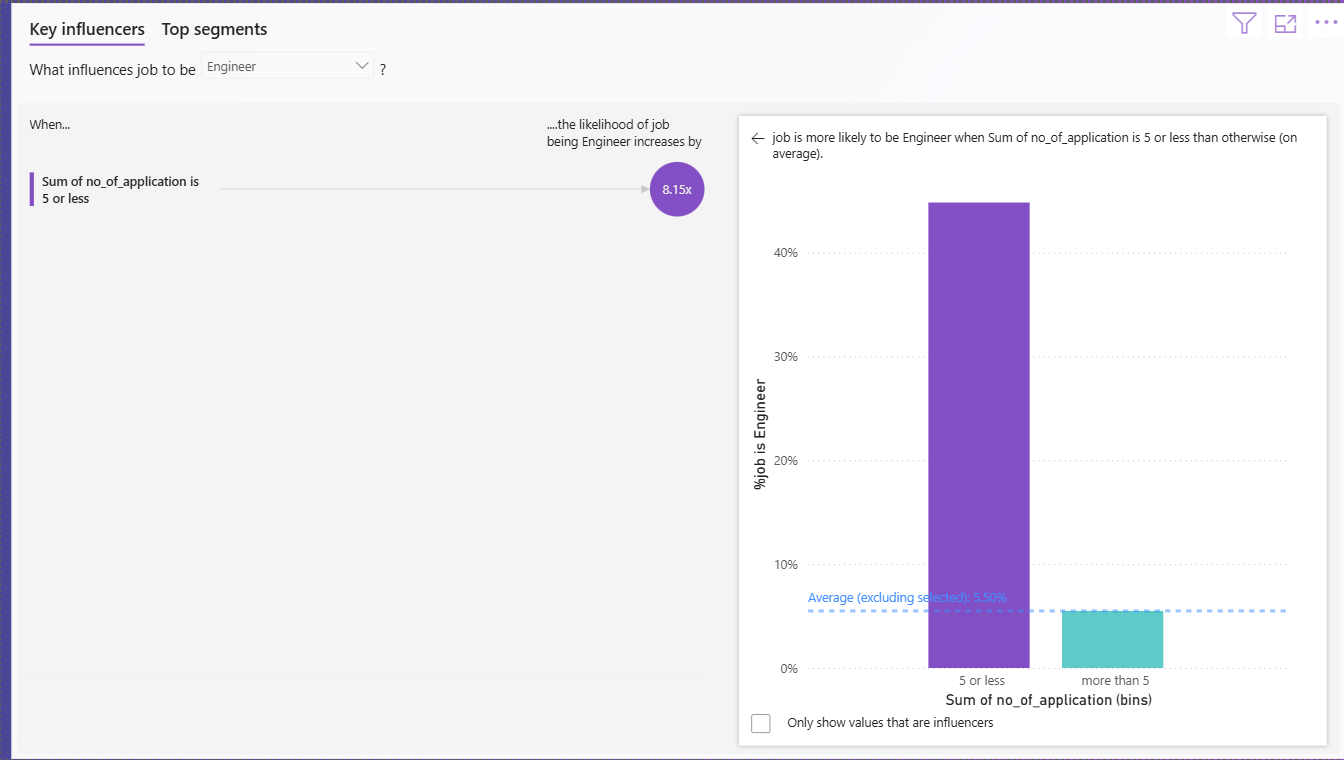

This screenshot's page, from the dashboard's own definition file:
{"tool":"powerbi","page":{"name":"Page 4","canvas":[1280,720],"ordinal":3},"visuals":[{"type":"keyDriversVisual","fields":{"Target":["linkdin_Job_data.job"],"ExplainBy":["linkdin_Job_data.company_name","linkdin_Job_data.City","Sum(linkdin_Job_data.no_of_application)"]},"box":[9.4,0,1269.9,720],"z":0}]}

Visuals, with their boxes in screenshot pixels (x1, y1, x2, y2), scaled from the page's 1280x720 canvas onto the 1344x760 screenshot:
keyDriversVisual - linkdin_Job_data.job x linkdin_Job_data.company_name: crop(10, 0, 1343, 759)
